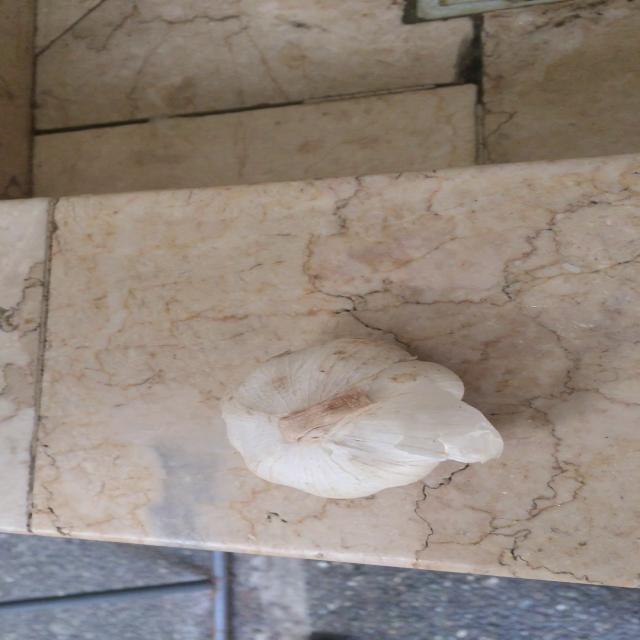garlic: (215, 334, 506, 501)
